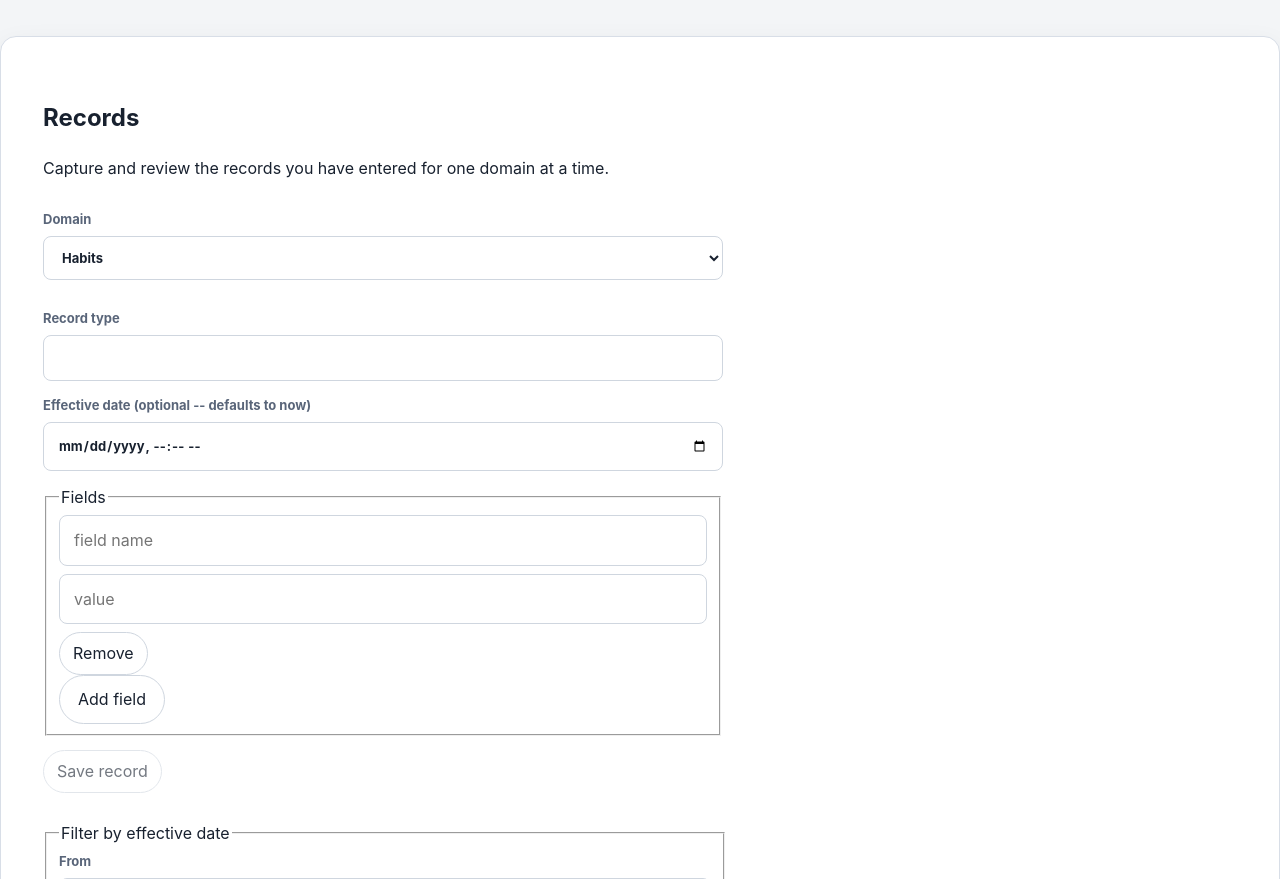
Test case: RecordsPanel › does not require the retention checkbox for a standard domain
Type "note" into the field labelled "Record type". click: [383, 358]
box: [43,335,723,381]
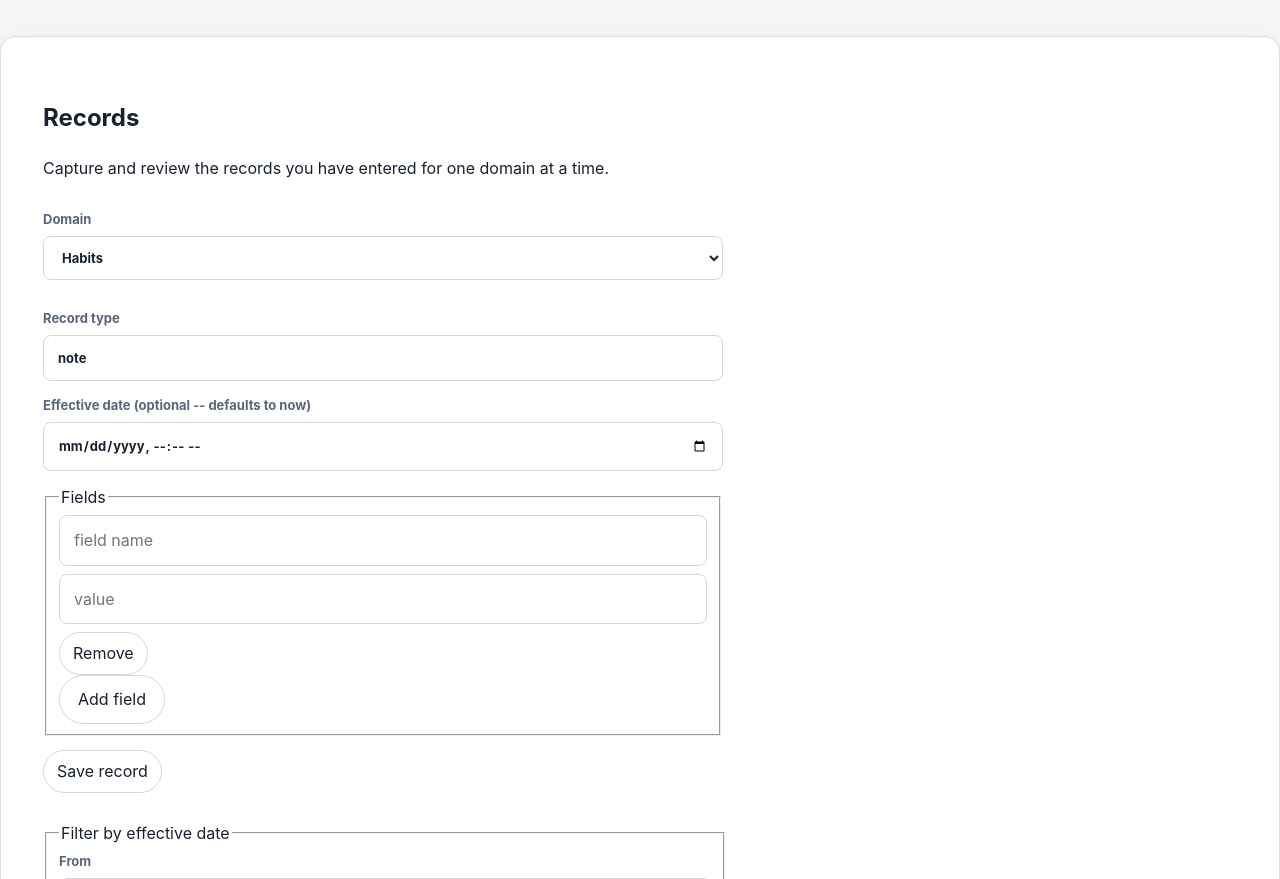
Expected: the button "Save record" is enabled, [43,750,162,793]
